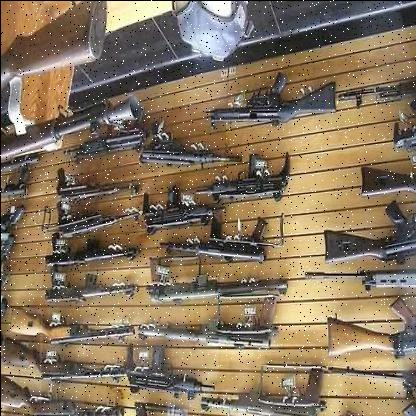rifle: (205, 52, 346, 135), (133, 292, 286, 356), (140, 254, 295, 310), (3, 291, 132, 348), (125, 121, 250, 175), (129, 181, 223, 235), (199, 154, 286, 212)
